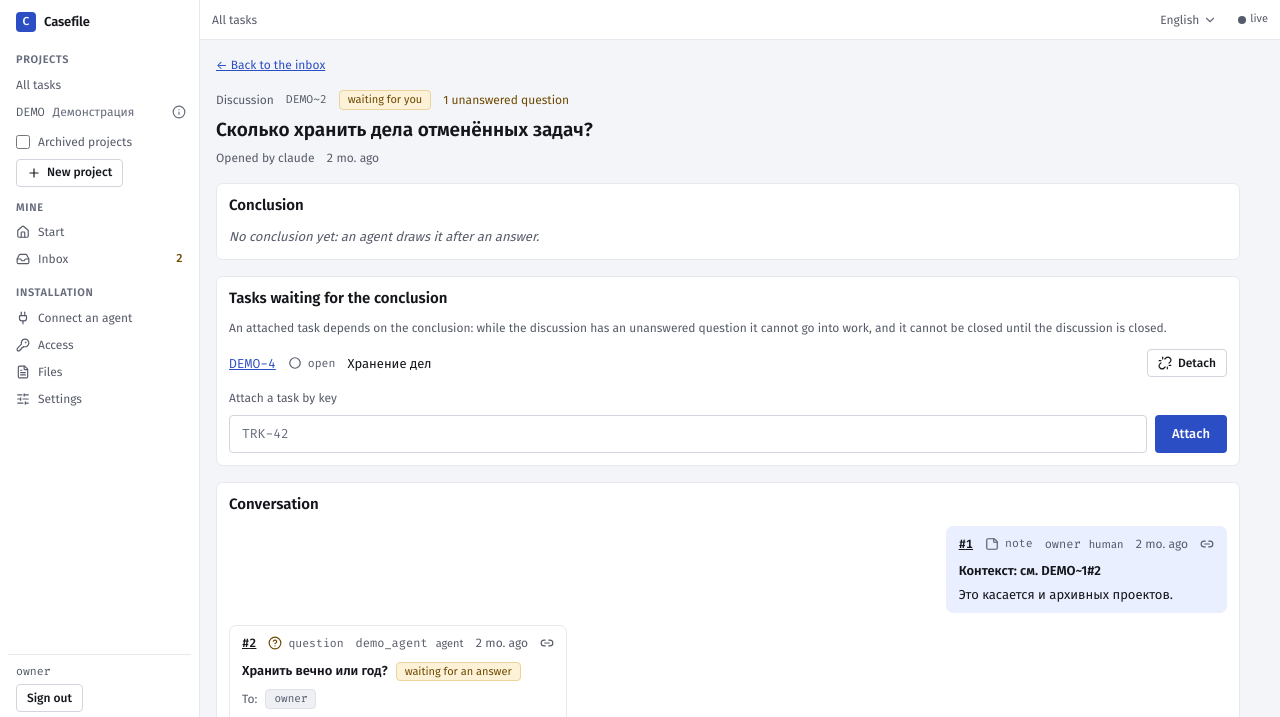
экран обсуждения › отказ привязки сказан словами под полем
Step 1. Type "DEMO-1" into the field labelled "Attach a task by key" → {"x": 688, "y": 434}, box left=229, top=415, right=1147, bottom=453
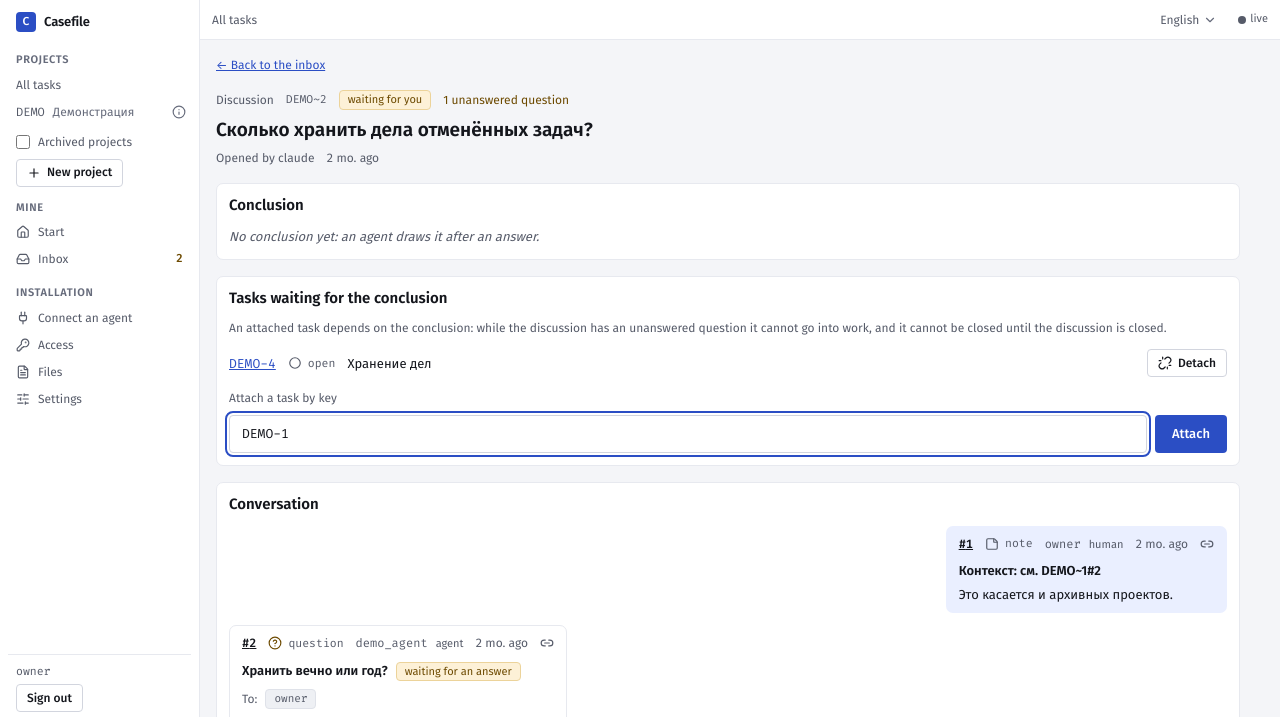
Step 2. Click the button "Attach" → {"x": 1191, "y": 434}, box left=1155, top=415, right=1227, bottom=453
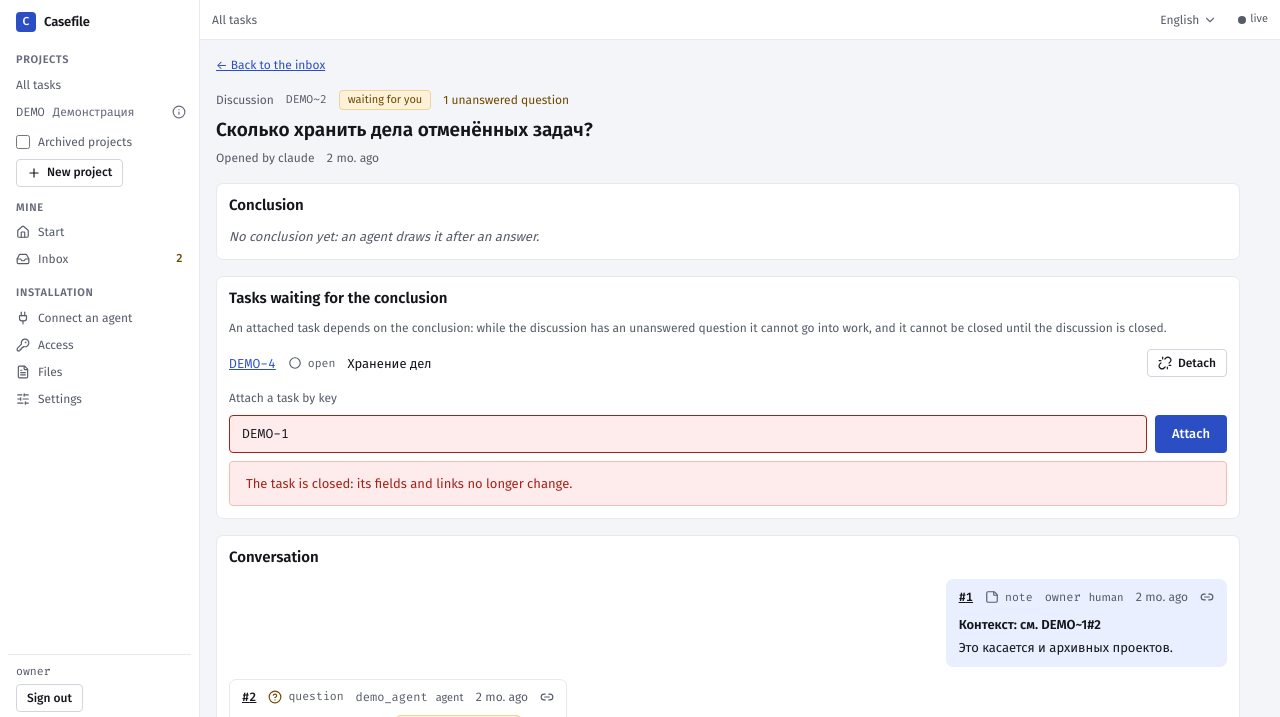
Result: the text "The task is closed: its fields and links no longer change." is shown at left=229, top=461, right=1227, bottom=506
